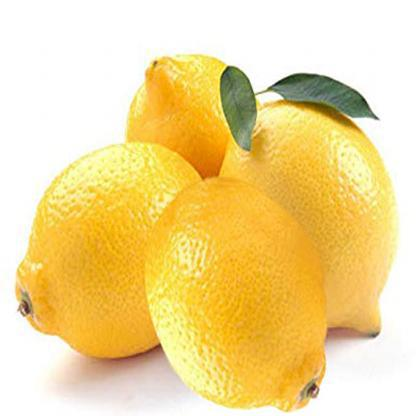lemon: (215, 93, 401, 350), (143, 172, 332, 414), (13, 138, 207, 366), (122, 48, 266, 187)
